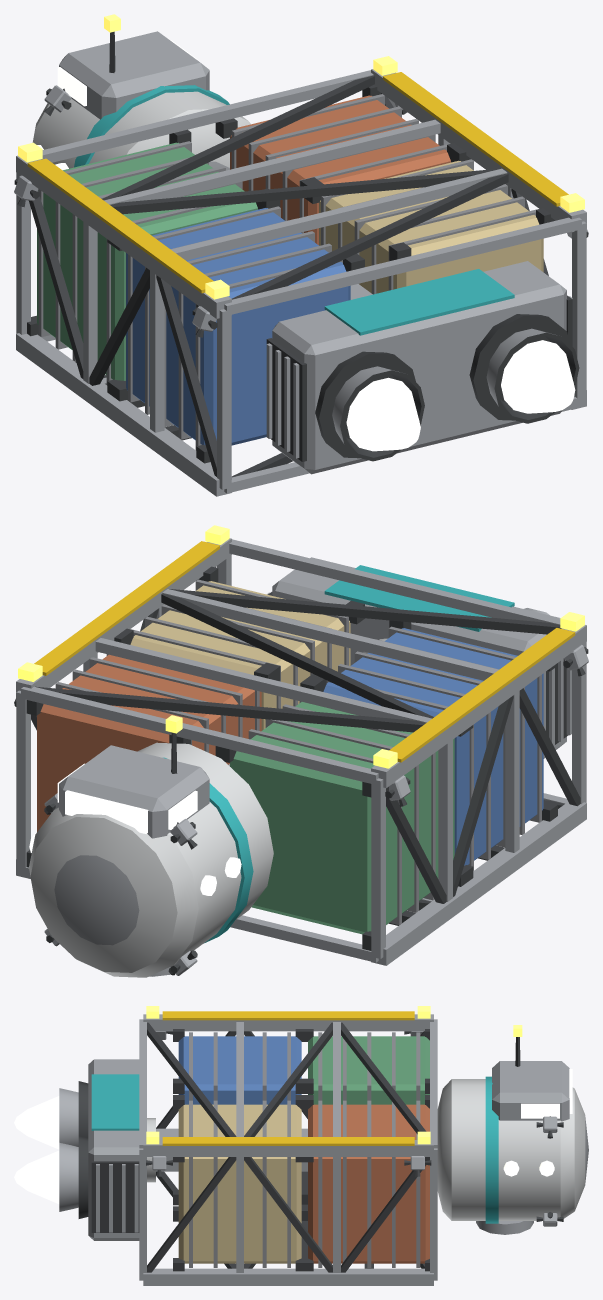
Rendered from cargo_shuttle.glb.
The picture shows the model from 3 angles, top to bottom: view 1: azimuth 30°, elevation 25°; view 2: azimuth 150°, elevation 25°; view 3: azimuth 270°, elevation 25°; orthographic projection. The views are drawn at different scales.
Visible parts, largest first — view 1: cargo_shuttle_hull, cargo_containers, engine_glow; view 2: cargo_shuttle_hull, cargo_containers; view 3: cargo_shuttle_hull, cargo_containers, engine_glow.
Part boxes in pixels (box(x1,y1,x2,y2)): cargo_shuttle_hull: box(14, 14, 588, 496); cargo_containers: box(27, 85, 555, 463); engine_glow: box(346, 340, 575, 451); cargo_shuttle_hull: box(14, 525, 588, 977); cargo_containers: box(26, 566, 557, 950); cargo_shuttle_hull: box(59, 1006, 588, 1285); cargo_containers: box(173, 1029, 429, 1271); engine_glow: box(14, 1096, 59, 1203).
Size of the model in its own units: 5.05 by 3.16 by 8.9.
